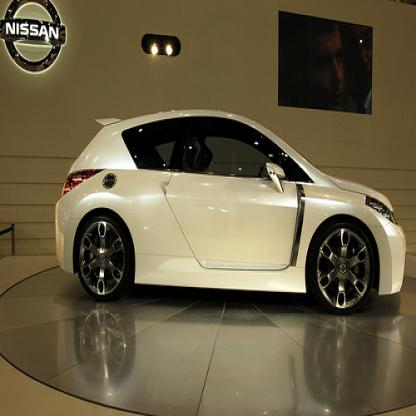car: (53, 107, 406, 313)
